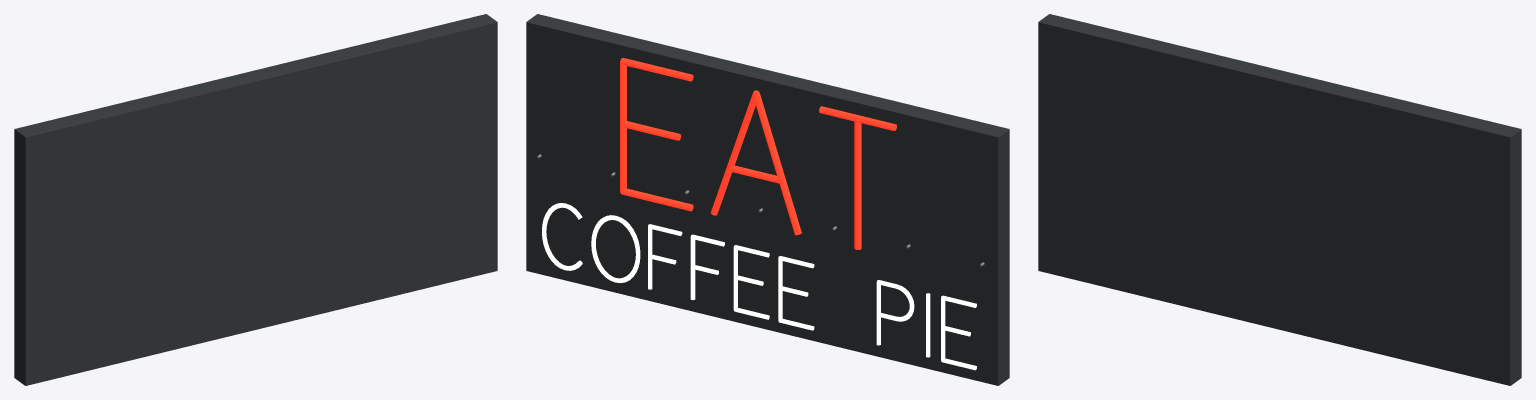
Rendered from prop_neon_eat.glb.
3 renders of one model, left to right at view 1: azimuth 30°, elevation 25°; view 2: azimuth 150°, elevation 25°; view 3: azimuth 330°, elevation 25°, orthographic.
Visible parts, largest first — view 1: Neon; view 2: Neon; view 3: Neon.
Boxes of the visible parts, x1,y1,x2,y2 form: Neon: [14, 14, 497, 385]; Neon: [526, 14, 1009, 385]; Neon: [1038, 14, 1521, 385].
Bounding box in the file's own units: 1.9 × 0.96 × 0.113.
